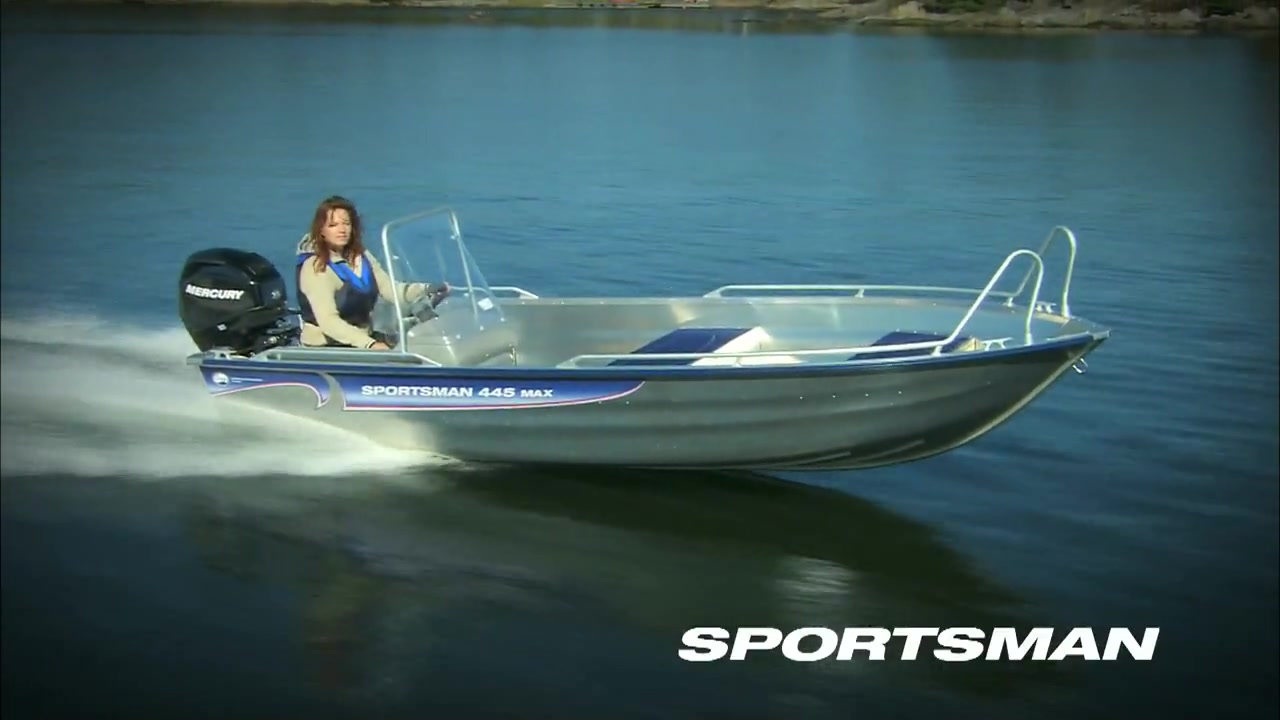boat: (172, 206, 1119, 483)
